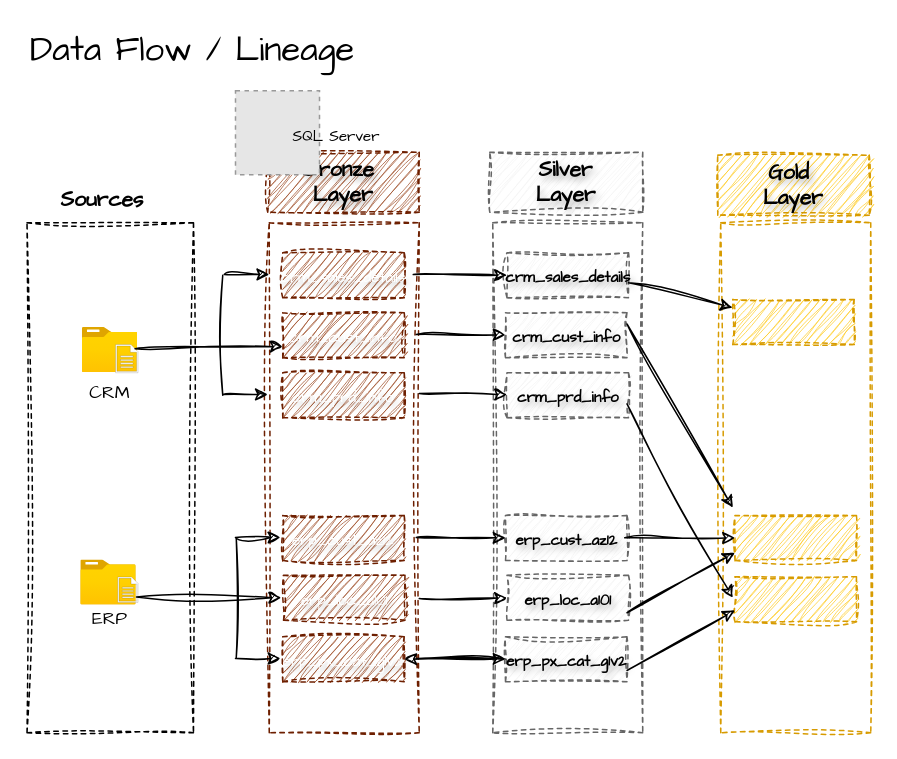
This 897x759 diagram has some shape labels left out. Grey dashed boxes stand in for pictures. The shapes that lost their labels are listed below. From the top down, each one's centre as x and y in pixels, then its label:
At [792,321]: "fact_sales".
At [795,537]: "dim_customers".
At [795,598]: "dim_products".
